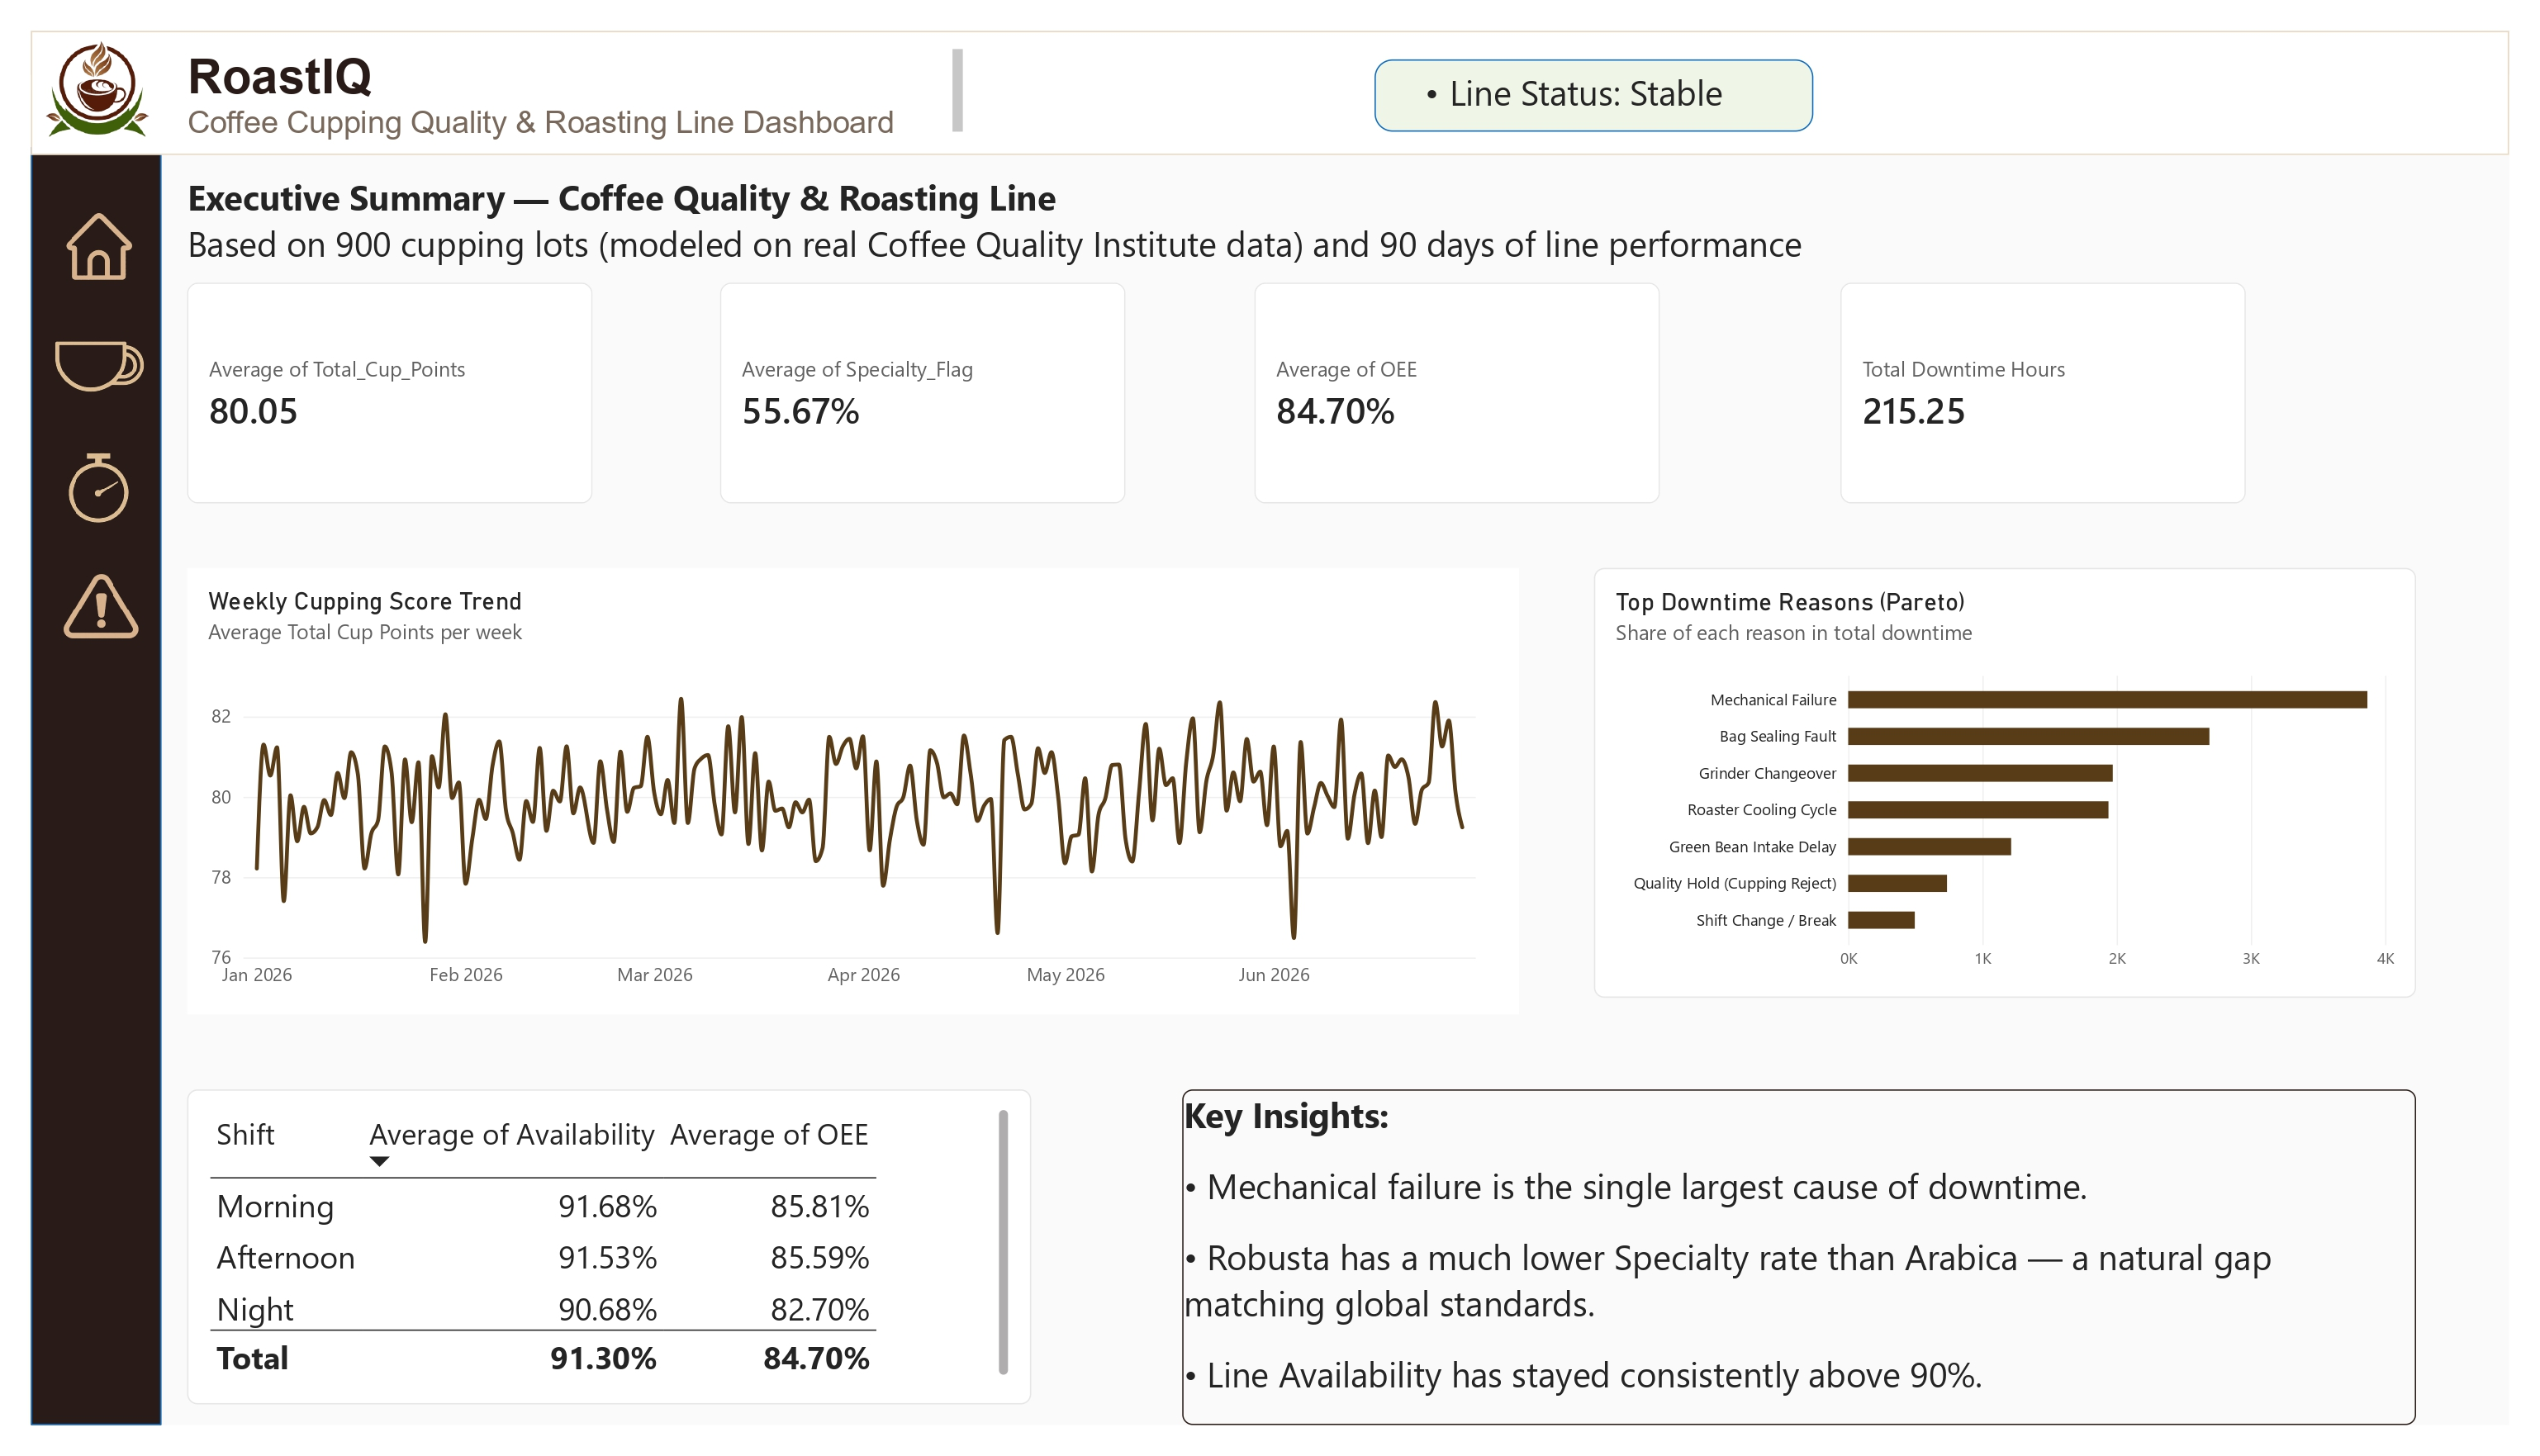

Layout of this report page (visuals, bound fields, positions):
{"tool":"powerbi","page":{"name":"Executive Summary","canvas":[1920,1080],"ordinal":0},"visuals":[{"type":"textbox","box":[121.2,110.4,1596.1,86.9],"z":0},{"type":"shape","box":[0,90.5,101.3,989.9],"z":1000},{"type":"image","box":[14.5,137.5,77.8,59.7],"z":2000},{"type":"image","box":[14.5,322.1,79.6,63.3],"z":3000},{"type":"image","box":[18.1,416.2,70.6,58],"z":4000},{"type":"cardVisual","fields":{"Data":["Avg(Fact_Cupping.Total_Cup_Points)"]},"box":[121.2,195.4,314.9,171.9],"z":5000},{"type":"cardVisual","fields":{"Data":["Fact_Downtime.Total Downtime Hours"]},"box":[1402.5,195.4,314.9,171.9],"z":6000},{"type":"cardVisual","fields":{"Data":["Avg(Fact_RoastingLine.OEE)"]},"box":[948.3,195.4,314.9,171.9],"z":7000},{"type":"cardVisual","fields":{"Data":["Avg(Fact_Cupping.Specialty_Flag)"]},"box":[533.8,195.4,314.9,171.9],"z":8000},{"type":"image","box":[10.9,228,81,61],"z":9000},{"type":"shape","box":[0,0,1920.1,95.9],"z":10000},{"type":"image","box":[2.1,0,97.7,90.5],"z":11000},{"type":"textbox","box":[121.2,14.5,600.8,76],"z":12000},{"type":"shape","box":[1040.8,21.6,340.2,56.1],"z":13000},{"type":"textbox","box":[1058.9,28.8,289.5,49],"z":14000},{"type":"lineChart","title":"Weekly Cupping Score Trend","fields":{"Y":["Avg(Fact_Cupping.Total_Cup_Points)"],"Category":["Fact_Cupping.Date.Variation.Date Hierarchy.Year","Fact_Cupping.Date.Variation.Date Hierarchy.Quarter","Fact_Cupping.Date.Variation.Date Hierarchy.Month","Fact_Cupping.Date.Variation.Date Hierarchy.Day"]},"box":[121.2,416.2,1031.5,345.6],"z":15000},{"type":"clusteredBarChart","title":"Top Downtime Reasons (Pareto)","fields":{"Category":["Fact_Downtime.Reason"],"Y":["Sum(Fact_Downtime.Duration)"]},"box":[1210.7,416.2,637,333],"z":16000},{"type":"tableEx","fields":{"Values":["Fact_RoastingLine.Shift","Avg(Fact_RoastingLine.Availability)","Avg(Fact_RoastingLine.OEE)"]},"box":[121.2,819.8,653.3,244.3],"z":17000},{"type":"textbox","box":[892.2,819.8,955.5,260.6],"z":18000}]}

Visuals, with their boxes on the page's 1920x1080 design canvas (x1, y1, x2, y2). These are canvas units, not pixel positions in the 2540x1456 screenshot, which may show the page scaled, cropped or inside an application window:
textbox: box=[121, 110, 1717, 197]
shape: box=[0, 90, 101, 1080]
image: box=[14, 138, 92, 197]
image: box=[14, 322, 94, 385]
image: box=[18, 416, 89, 474]
cardVisual - Avg(Fact_Cupping.Total_Cup_Points): box=[121, 195, 436, 367]
cardVisual - Fact_Downtime.Total Downtime Hours: box=[1402, 195, 1717, 367]
cardVisual - Avg(Fact_RoastingLine.OEE): box=[948, 195, 1263, 367]
cardVisual - Avg(Fact_Cupping.Specialty_Flag): box=[534, 195, 849, 367]
image: box=[11, 228, 92, 289]
shape: box=[0, 0, 1920, 96]
image: box=[2, 0, 100, 90]
textbox: box=[121, 14, 722, 90]
shape: box=[1041, 22, 1381, 78]
textbox: box=[1059, 29, 1348, 78]
"Weekly Cupping Score Trend" lineChart: box=[121, 416, 1153, 762]
"Top Downtime Reasons (Pareto)" clusteredBarChart: box=[1211, 416, 1848, 749]
tableEx - Fact_RoastingLine.Shift x Avg(Fact_RoastingLine.Availability): box=[121, 820, 774, 1064]
textbox: box=[892, 820, 1848, 1080]
